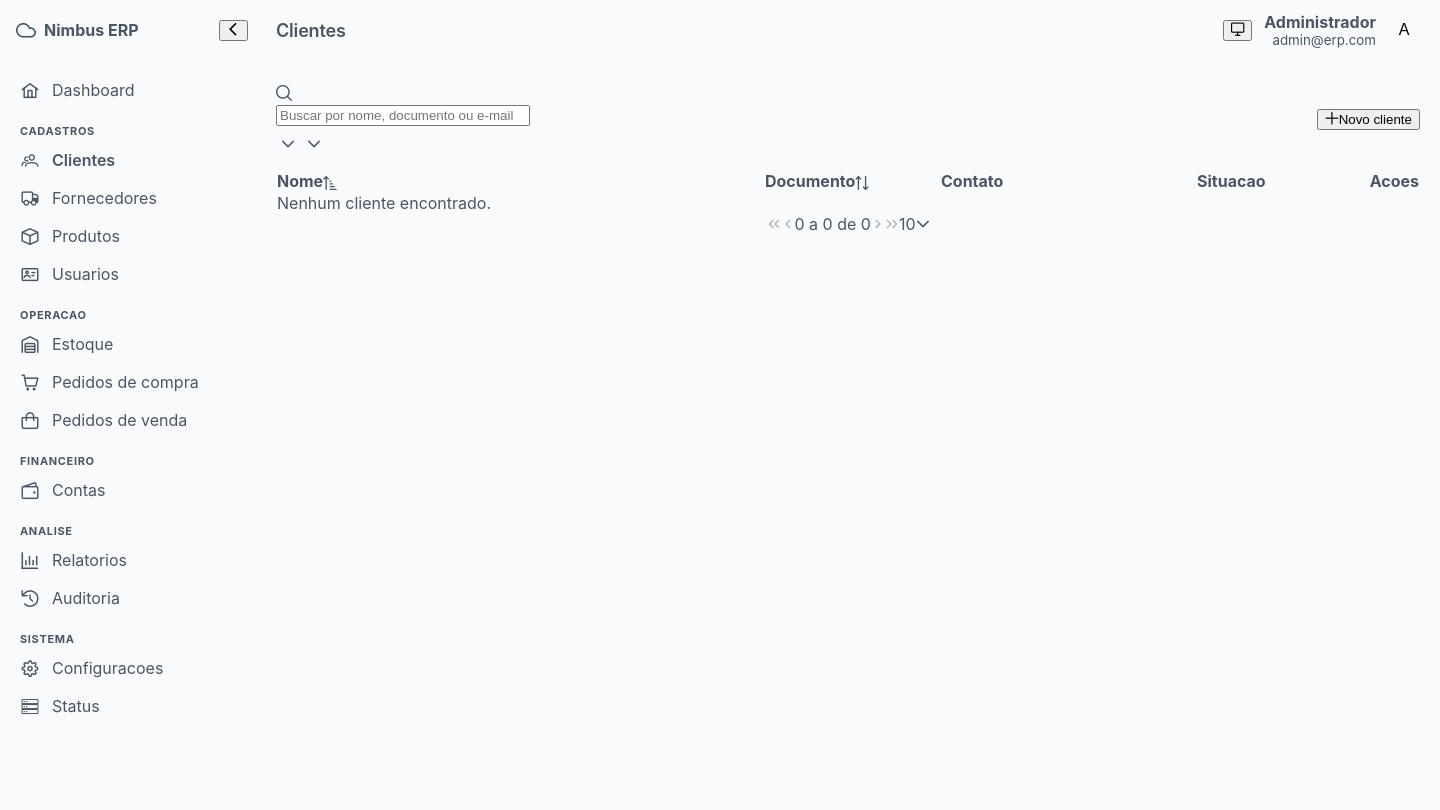
CRUD de clientes › exibe erro por campo devolvido pelo backend
expect the heading "Clientes" is shown: met, box [276,20,346,40]
Click the button "Novo cliente" at (1369, 119), box [1317,108,1420,130]
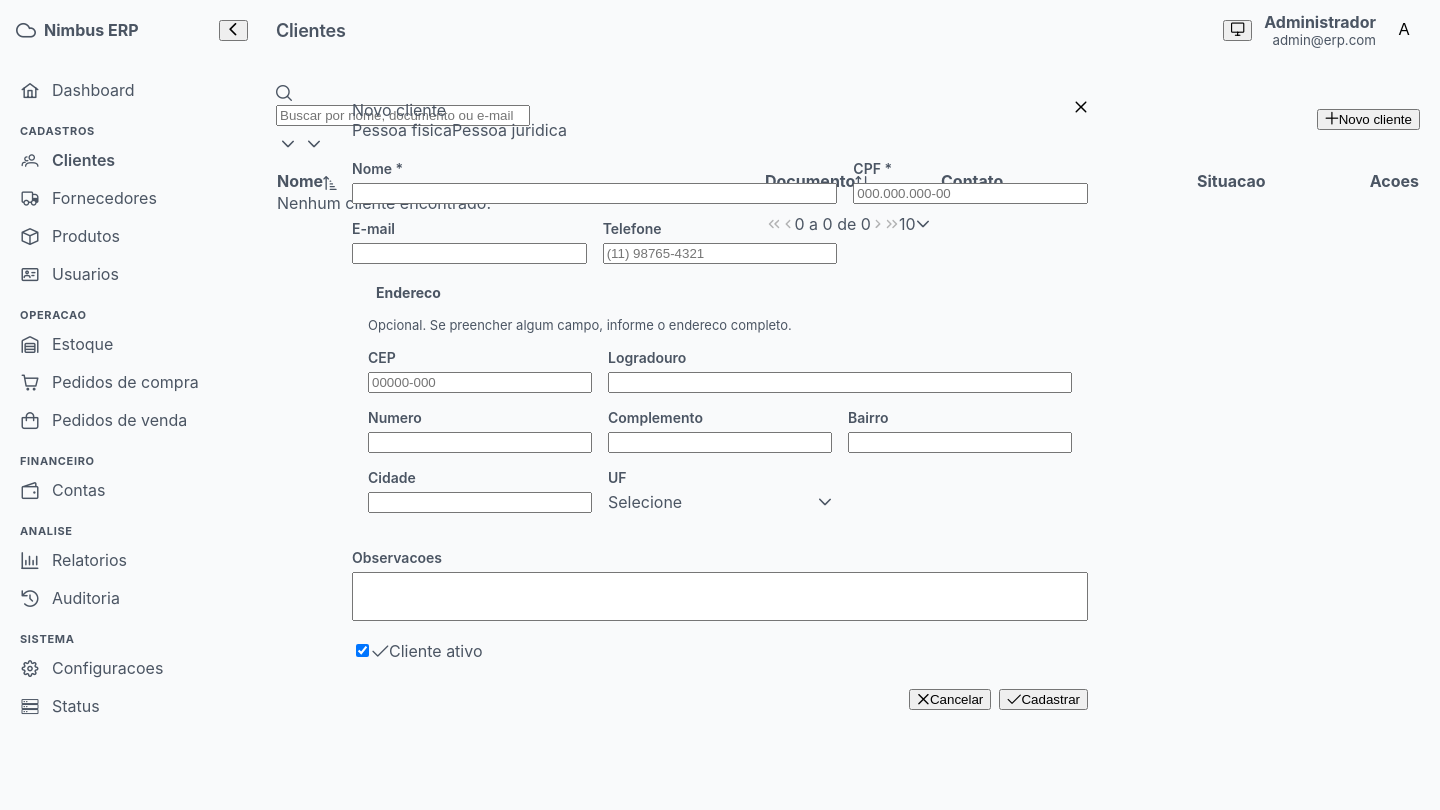
Type "Maria" into the field labelled "Nome *" at (595, 194), box [352,183,837,204]
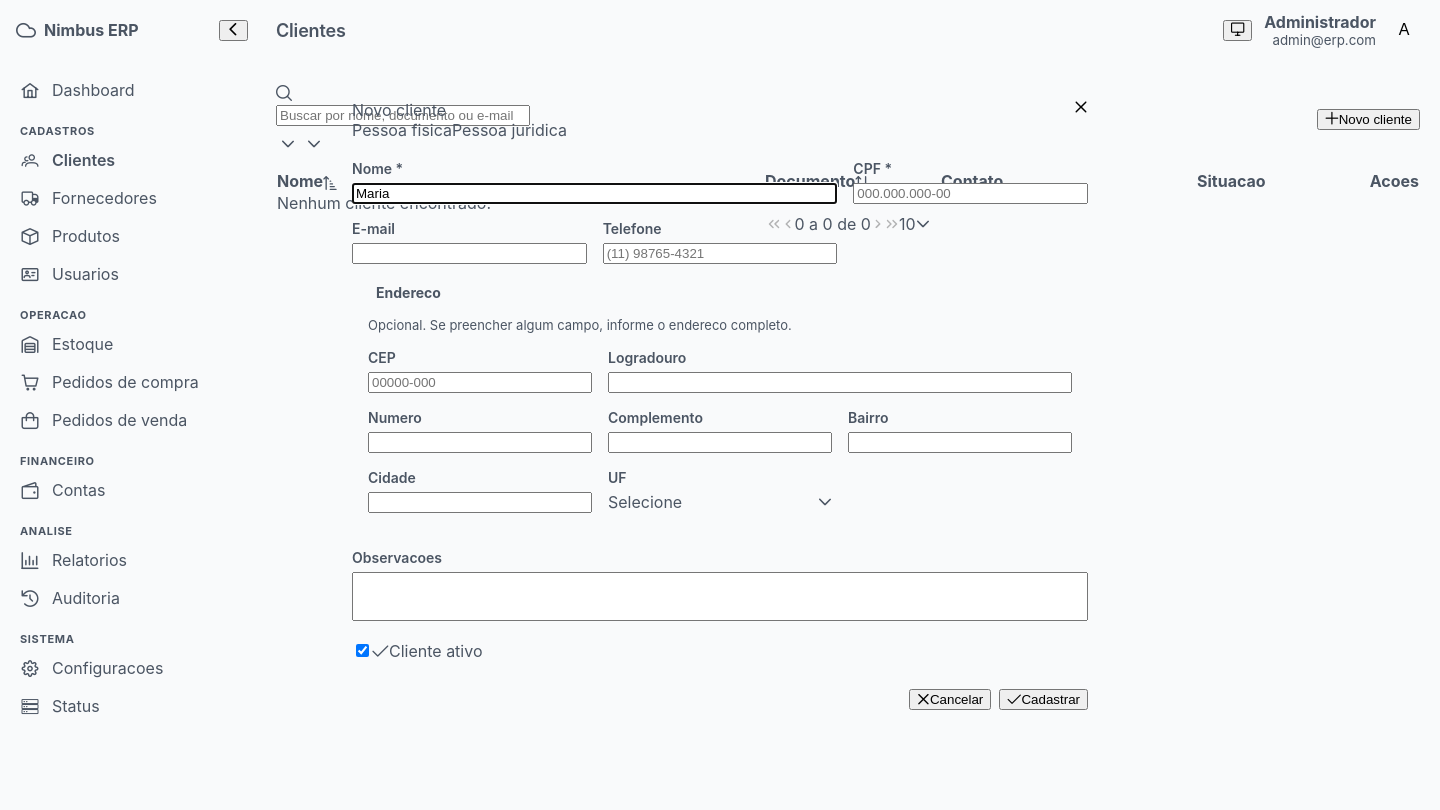
Type "52998224725" into the field labelled "CPF *" at (971, 194), box [853,183,1088,204]
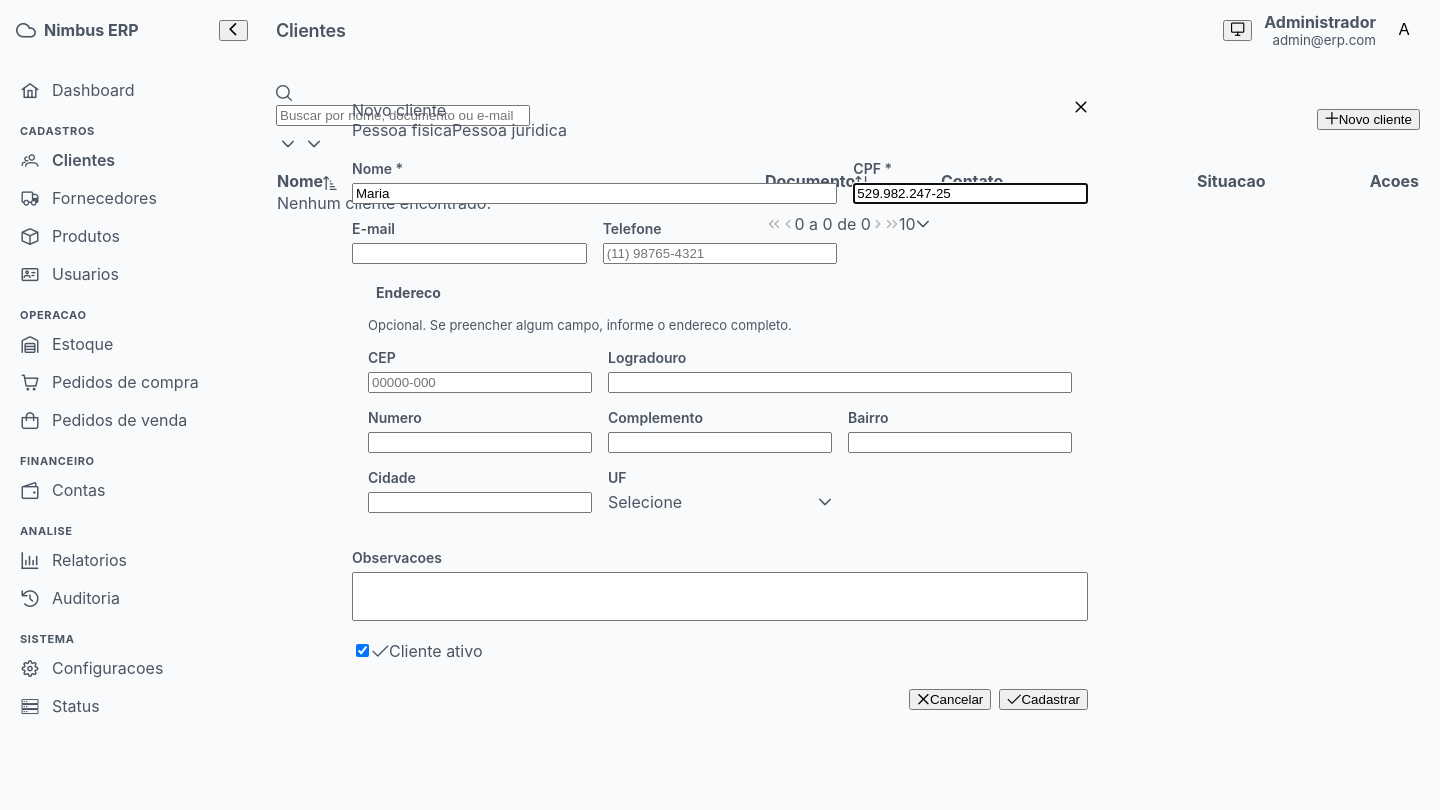
Click the button "Cadastrar" at (1044, 700), box [999,689,1088,710]
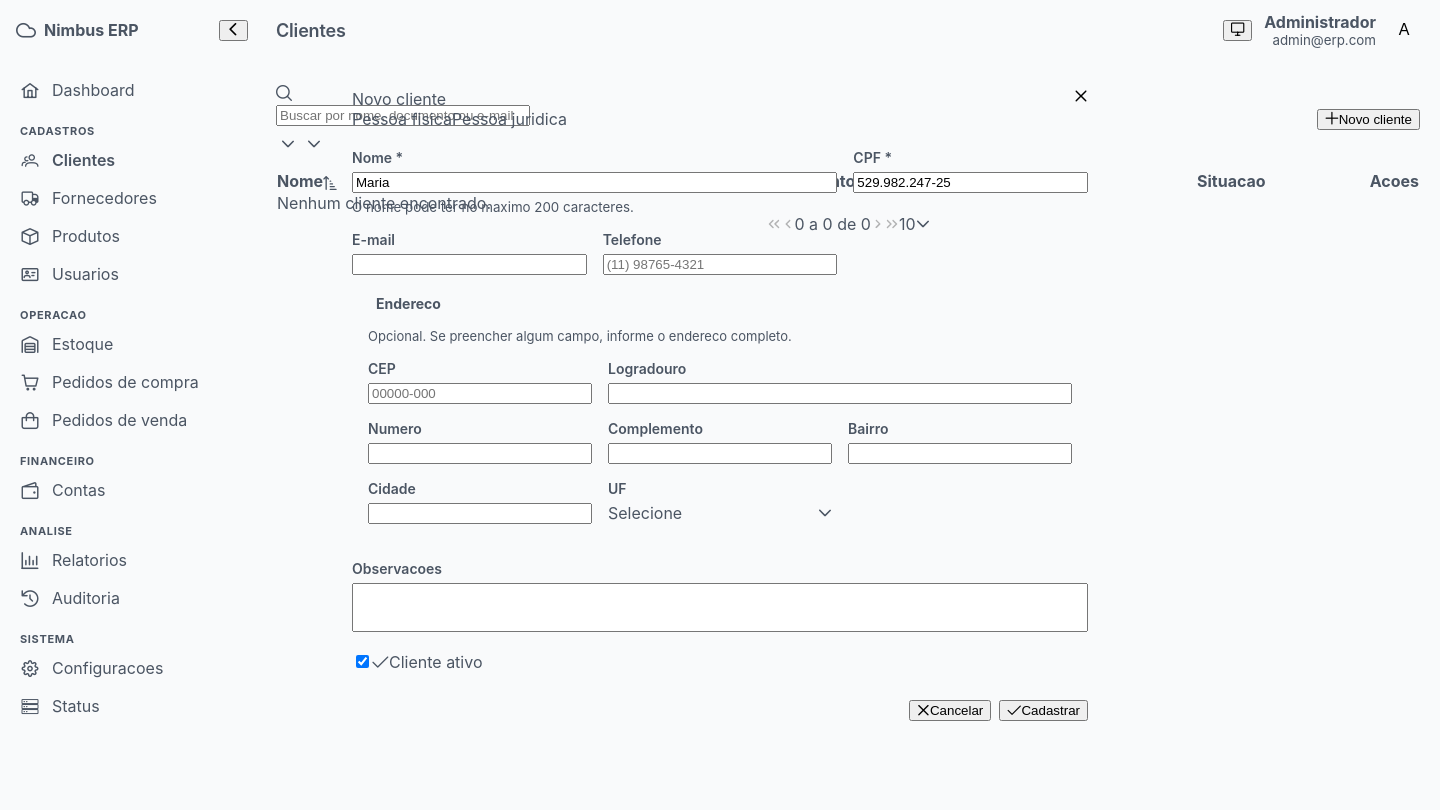
expect the text "O nome pode ter no maximo 200 caracteres." is shown: met, box [352,199,634,215]
